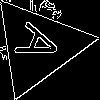A: (13, 21, 73, 70)
